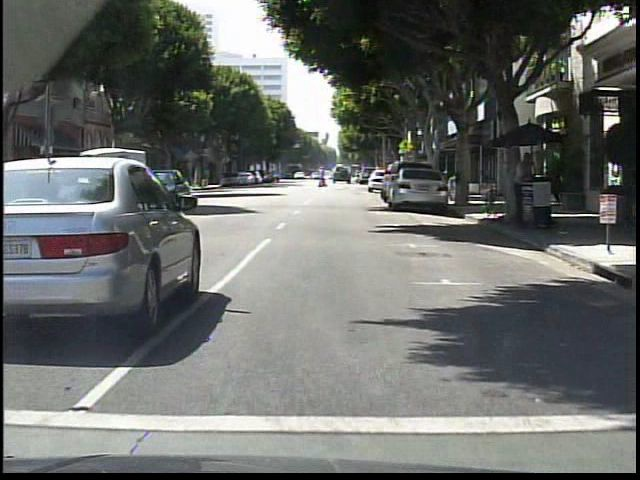person: (512, 150, 540, 227), (317, 168, 327, 188)
